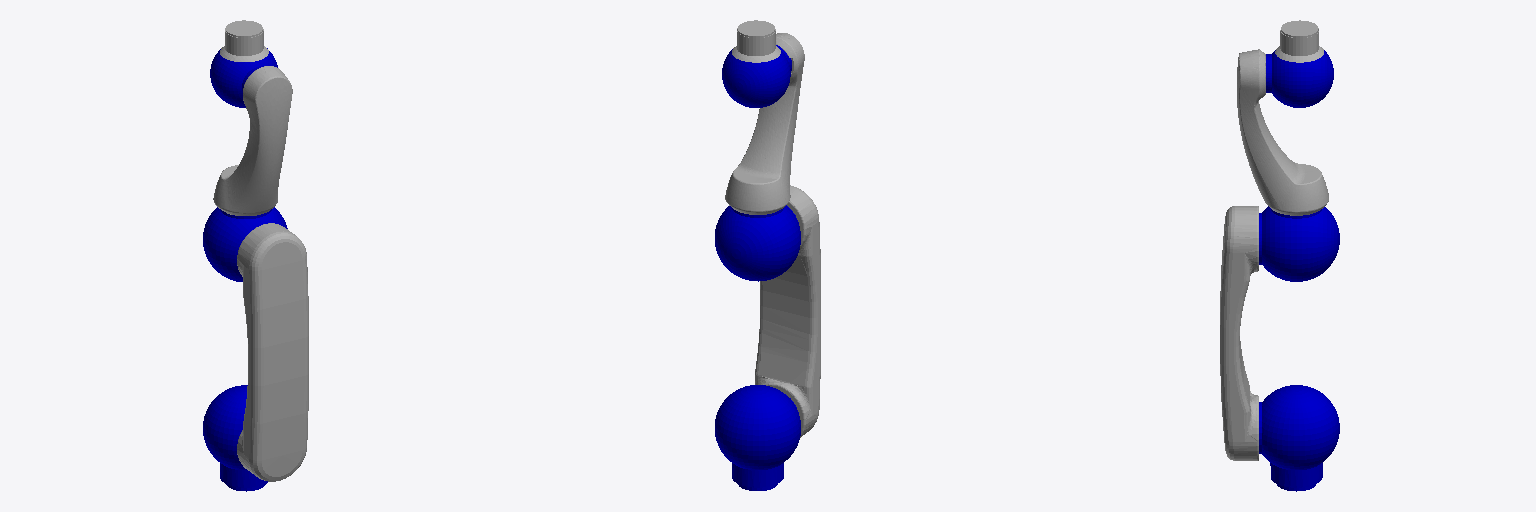
The robot description file, URDF, robot "schunk_lwa4p":
<?xml version="1.0" ?>
<!-- =================================================================================== -->
<!-- |    This document was autogenerated by xacro from lwa4p.xacro                    | -->
<!-- |    EDITING THIS FILE BY HAND IS NOT RECOMMENDED                                 | -->
<!-- =================================================================================== -->
<robot name="schunk_lwa4p">
  <!-- joint between base_link and lwa4p_extended_connector_link -->
  <link name="world"/>
  <joint name="lwa4p_base_joint" type="fixed">
    <origin rpy="0 0 0" xyz="0 0 0"/>
    <parent link="world"/>
    <child link="lwa4p_base_link"/>
  </joint>
  <link name="lwa4p_base_link">
    <inertial>
      <mass value="0.01"/>
      <origin xyz="0 0 0"/>
      <inertia ixx="0.001" ixy="0.0" ixz="0.0" iyy="0.001" iyz="0.0" izz="0.001"/>
    </inertial>
  </link>
  <!-- joint between arm_0_link and arm_1_link -->
  <joint name="lwa4p_1_joint" type="revolute">
    <origin rpy="0 0 0" xyz="0 0 0"/>
    <parent link="lwa4p_base_link"/>
    <child link="lwa4p_1_link"/>
    <axis xyz="0 0 1"/>
    <limit effort="370" lower="-2.947" upper="2.947" velocity="1.26"/>
    <!--safety_controller k_position="20" k_velocity="50" soft_lower_limit="${-6.28 + 0.01}" soft_upper_limit="${6.28 - 0.01}" /-->
  </joint>
  <link name="lwa4p_1_link">
    <inertial>
      <mass value="0.01"/>
      <origin xyz="0 0 0"/>
      <inertia ixx="0.001" ixy="0.0" ixz="0.0" iyy="0.001" iyz="0.0" izz="0.001"/>
    </inertial>
    <!--
      <inertial>
        <origin xyz="0 0 0" rpy="0 0 0" />
        <mass value="0.29364"/>
        <inertia ixx="0.01" ixy="0" ixz="0" iyy="0.01" iyz="0" izz="0.01" />
      </inertial>
-->
    <visual>
      <origin rpy="0 0 0" xyz="0 0 0"/>
      <geometry>
        <mesh filename="meshes/lwa4p/arm_1_link.dae"/>
      </geometry>
      <material name="Schunk/Blue"/>
    </visual>
    <collision>
      <origin rpy="0 0 0" xyz="0 0 0"/>
      <geometry>
        <mesh filename="meshes/lwa4p/arm_1_link.stl"/>
      </geometry>
    </collision>
  </link>
  <!-- joint between arm_1_link and arm_2_link -->
  <joint name="lwa4p_2_joint" type="revolute">
    <origin rpy="1.5708 0 0" xyz="0 0 0"/>
    <parent link="lwa4p_1_link"/>
    <child link="lwa4p_2_link"/>
    <axis xyz="0 0 1"/>
    <limit effort="370" lower="-2.947" upper="2.947" velocity="1.26"/>
    <!--safety_controller k_position="20" k_velocity="50" soft_lower_limit="${-2.09 + 0.01}" soft_upper_limit="${2.09 - 0.01}" /-->
  </joint>
  <link name="lwa4p_2_link">
    <inertial>
      <mass value="0.01"/>
      <origin xyz="0 0 0"/>
      <inertia ixx="0.001" ixy="0.0" ixz="0.0" iyy="0.001" iyz="0.0" izz="0.001"/>
    </inertial>
    <!--
      <inertial>
        <origin xyz="0 0 0" rpy="0 0 0"/>
        <mass value="1.68311"/>
        <inertia ixx="0.03" ixy="0" ixz="0" iyy="0.03" iyz="0" izz="0.03" />
      </inertial>
-->
    <visual>
      <origin rpy="0 0 0" xyz="0 0 0"/>
      <geometry>
        <mesh filename="meshes/lwa4p/arm_2_link.dae"/>
      </geometry>
      <material name="Schunk/LightGrey"/>
    </visual>
    <collision>
      <origin rpy="0 0 0" xyz="0 0 0"/>
      <geometry>
        <mesh filename="meshes/lwa4p/arm_2_link.stl"/>
      </geometry>
    </collision>
  </link>
  <!-- joint between arm_2_link and arm_3_link -->
  <joint name="lwa4p_3_joint" type="revolute">
    <origin rpy="0 3.14159 0" xyz="0 0.350 0"/>
    <parent link="lwa4p_2_link"/>
    <child link="lwa4p_3_link"/>
    <axis xyz="0 0 1"/>
    <limit effort="176" lower="-2.694" upper="2.694" velocity="1.26"/>
    <!--safety_controller k_position="20" k_velocity="25" soft_lower_limit="${-6.28 + 0.01}" soft_upper_limit="${6.28 - 0.01}" /-->
  </joint>
  <link name="lwa4p_3_link">
    <inertial>
      <mass value="0.01"/>
      <origin xyz="0 0 0"/>
      <inertia ixx="0.001" ixy="0.0" ixz="0.0" iyy="0.001" iyz="0.0" izz="0.001"/>
    </inertial>
    <!--
      <inertial>
        <origin xyz="0 0 0" rpy="0 0 0"/>
        <mass value="2.1"/>
        <inertia ixx="0.03" ixy="0" ixz="0" iyy="0.03" iyz="0" izz="0.03" />
      </inertial>
-->
    <visual>
      <origin rpy="0 0 0" xyz="0 0 0"/>
      <geometry>
        <mesh filename="meshes/lwa4p/arm_3_link.dae"/>
      </geometry>
      <material name="Schunk/Blue"/>
    </visual>
    <collision>
      <origin rpy="0 0 0" xyz="0 0 0"/>
      <geometry>
        <mesh filename="meshes/lwa4p/arm_3_link.stl"/>
      </geometry>
    </collision>
  </link>
  <!-- joint between arm_3_link and arm_4_link -->
  <joint name="lwa4p_4_joint" type="revolute">
    <origin rpy="-1.5708 3.14159 0" xyz="0 0 0"/>
    <parent link="lwa4p_3_link"/>
    <child link="lwa4p_4_link"/>
    <axis xyz="0 0 1"/>
    <limit effort="176" lower="-2.947" upper="2.947" velocity="1.26"/>
    <!--safety_controller k_position="20" k_velocity="25" soft_lower_limit="${-2.09 + 0.01}" soft_upper_limit="${2.09 - 0.01}" /-->
  </joint>
  <link name="lwa4p_4_link">
    <inertial>
      <mass value="0.01"/>
      <origin xyz="0 0 0"/>
      <inertia ixx="0.001" ixy="0.0" ixz="0.0" iyy="0.001" iyz="0.0" izz="0.001"/>
    </inertial>
    <!--
      <inertial>
        <origin xyz="0 0 0" rpy="0 0 0"/>
        <mass value="1.68311"/>
        <inertia ixx="0.03" ixy="0" ixz="0" iyy="0.03" iyz="0" izz="0.03" />
      </inertial>
-->
    <visual>
      <origin rpy="0 0 0" xyz="0 0 0"/>
      <geometry>
        <mesh filename="meshes/lwa4p/arm_4_link.dae"/>
      </geometry>
      <material name="Schunk/LightGrey"/>
    </visual>
    <collision>
      <origin rpy="0 0 0" xyz="0 0 0"/>
      <geometry>
        <mesh filename="meshes/lwa4p/arm_4_link.stl"/>
      </geometry>
    </collision>
  </link>
  <!-- joint between arm_4_link and arm_5_link -->
  <joint name="lwa4p_5_joint" type="revolute">
    <origin rpy="1.5708 0 3.14159" xyz="0 0.005263 0.305"/>
    <parent link="lwa4p_4_link"/>
    <child link="lwa4p_5_link"/>
    <axis xyz="0 0 1"/>
    <limit effort="41.6" lower="-2.947" upper="2.947" velocity="1.26"/>
    <!--safety_controller k_position="20" k_velocity="25" soft_lower_limit="${-6.28 + 0.01}" soft_upper_limit="${6.28 - 0.01}" /-->
  </joint>
  <link name="lwa4p_5_link">
    <inertial>
      <mass value="0.01"/>
      <origin xyz="0 0 0"/>
      <inertia ixx="0.001" ixy="0.0" ixz="0.0" iyy="0.001" iyz="0.0" izz="0.001"/>
    </inertial>
    <!--
      <inertial>
        <origin xyz="0 0 0" rpy="0 0 0"/>
        <mass value="0.807"/>
        <inertia ixx="0.03" ixy="0" ixz="0" iyy="0.03" iyz="0" izz="0.03" />
      </inertial>
-->
    <visual>
      <origin rpy="0 0 0" xyz="0 0 0"/>
      <geometry>
        <mesh filename="meshes/lwa4p/arm_5_link.dae"/>
      </geometry>
      <material name="Schunk/Blue"/>
    </visual>
    <collision>
      <origin rpy="0 0 0" xyz="0 0 0"/>
      <geometry>
        <mesh filename="meshes/lwa4p/arm_5_link.stl"/>
      </geometry>
    </collision>
  </link>


  <!-- joint between arm_5_link and arm_6_link -->
  <joint name="lwa4p_6_joint" type="revolute">
    <origin rpy="-1.5708 0 0" xyz="0 0 0"/>
    <parent link="lwa4p_5_link"/>
    <child link="lwa4p_6_link"/>
    <axis xyz="0 0 1"/>
    <limit effort="20.1" lower="-2.947" upper="2.947" velocity="1.26"/>
    <!--safety_controller k_position="20" k_velocity="25" soft_lower_limit="${-2.09 + 0.01}" soft_upper_limit="${2.09 - 0.01}" /-->
  </joint>
  <link name="lwa4p_6_link">
    <inertial>
      <mass value="0.01"/>
      <origin xyz="0 0 0"/>
      <inertia ixx="0.001" ixy="0.0" ixz="0.0" iyy="0.001" iyz="0.0" izz="0.001"/>
    </inertial>
    <!--
      <inertial>
        <origin xyz="0 0 0" rpy="0 0 0"/>
        <mass value="0.819"/>
        <inertia ixx="0.01" ixy="0" ixz="0" iyy="0.01" iyz="0" izz="0.01" />
      </inertial>
-->
    <visual>
      <origin rpy="0 0 0" xyz="0 0 0"/>
      <geometry>
        <mesh filename="meshes/lwa4p/arm_6_link.dae"/>
      </geometry>
      <material name="Schunk/LightGrey"/>
    </visual>
    <collision>
      <origin rpy="0 0 0" xyz="0 0 0"/>
      <geometry>
        <mesh filename="meshes/lwa4p/arm_6_link.stl"/>
      </geometry>
    </collision>
  </link>

  <joint name="lwa4p_ee_joint" type="fixed">
        <origin rpy="0 0 0" xyz="0 0 0.0824"/>
        <parent link="lwa4p_6_link"/>
        <child link="lwa4p_ee_link"/>
  </joint>
  <link name="lwa4p_ee_link">
        <inertial>
          <mass value="0.01"/>
          <origin xyz="0 0 0"/>
          <inertia ixx="0.001" ixy="0.0" ixz="0.0" iyy="0.001" iyz="0.0" izz="0.001"/>
        </inertial>
  </link>

  <gazebo reference="lwa4p_0_link">
    <gravity>true</gravity>
    <self_collide>false</self_collide>
    <material value="Schunk/LightGrey"/>
  </gazebo>
  <gazebo reference="lwa4p_1_link">
    <gravity>true</gravity>
    <self_collide>false</self_collide>
    <material value="Schunk/Blue"/>
  </gazebo>
  <gazebo reference="lwa4p_2_link">
    <gravity>true</gravity>
    <self_collide>false</self_collide>
    <material value="Schunk/LightGrey"/>
  </gazebo>
  <gazebo reference="lwa4p_3_link">
    <gravity>true</gravity>
    <self_collide>false</self_collide>
    <material value="Schunk/Blue"/>
  </gazebo>
  <gazebo reference="lwa4p_4_link">
    <gravity>true</gravity>
    <self_collide>false</self_collide>
    <material value="Schunk/LightGrey"/>
  </gazebo>
  <gazebo reference="lwa4p_5_link">
    <gravity>true</gravity>
    <self_collide>false</self_collide>
    <material value="Schunk/Blue"/>
  </gazebo>
  <gazebo reference="lwa4p_6_link">
    <gravity>true</gravity>
    <self_collide>false</self_collide>
    <material value="Schunk/LightGrey"/>
  </gazebo>


</robot>

--- Render facts (derived) ---
The picture shows the robot from 3 angles, left to right: view 1: azimuth 30°, elevation 25°; view 2: azimuth 150°, elevation 25°; view 3: azimuth 270°, elevation 25°; orthographic projection.
Model schunk_lwa4p with 9 links and 8 joints (6 revolute, 2 fixed), rooted at world, posed every joint at zero.
Visible links, largest first — view 1: lwa4p_2_link, lwa4p_4_link, lwa4p_1_link, lwa4p_3_link, lwa4p_5_link, lwa4p_6_link; view 2: lwa4p_2_link, lwa4p_1_link, lwa4p_4_link, lwa4p_3_link, lwa4p_5_link, lwa4p_6_link; view 3: lwa4p_2_link, lwa4p_1_link, lwa4p_4_link, lwa4p_3_link, lwa4p_5_link, lwa4p_6_link.
Boxes of the visible links, x1=… form: lwa4p_2_link: x1=237, y1=223, x2=308, y2=481; lwa4p_4_link: x1=213, y1=66, x2=292, y2=215; lwa4p_1_link: x1=203, y1=385, x2=267, y2=491; lwa4p_3_link: x1=203, y1=207, x2=287, y2=281; lwa4p_5_link: x1=210, y1=48, x2=277, y2=107; lwa4p_6_link: x1=220, y1=20, x2=268, y2=61; lwa4p_2_link: x1=755, y1=185, x2=820, y2=437; lwa4p_1_link: x1=715, y1=385, x2=800, y2=490; lwa4p_4_link: x1=725, y1=33, x2=804, y2=214; lwa4p_3_link: x1=715, y1=205, x2=800, y2=281; lwa4p_5_link: x1=722, y1=45, x2=791, y2=107; lwa4p_6_link: x1=732, y1=20, x2=780, y2=62; lwa4p_2_link: x1=1220, y1=206, x2=1258, y2=460; lwa4p_1_link: x1=1259, y1=385, x2=1339, y2=491; lwa4p_4_link: x1=1237, y1=49, x2=1328, y2=215; lwa4p_3_link: x1=1259, y1=206, x2=1339, y2=281; lwa4p_5_link: x1=1266, y1=50, x2=1333, y2=107; lwa4p_6_link: x1=1275, y1=20, x2=1323, y2=62.
Size in the robot's own frame: 0.1447 by 0.2009 by 0.8403 metres.
6 mesh visuals loaded from 6 distinct referenced files (6 Collada DAE).